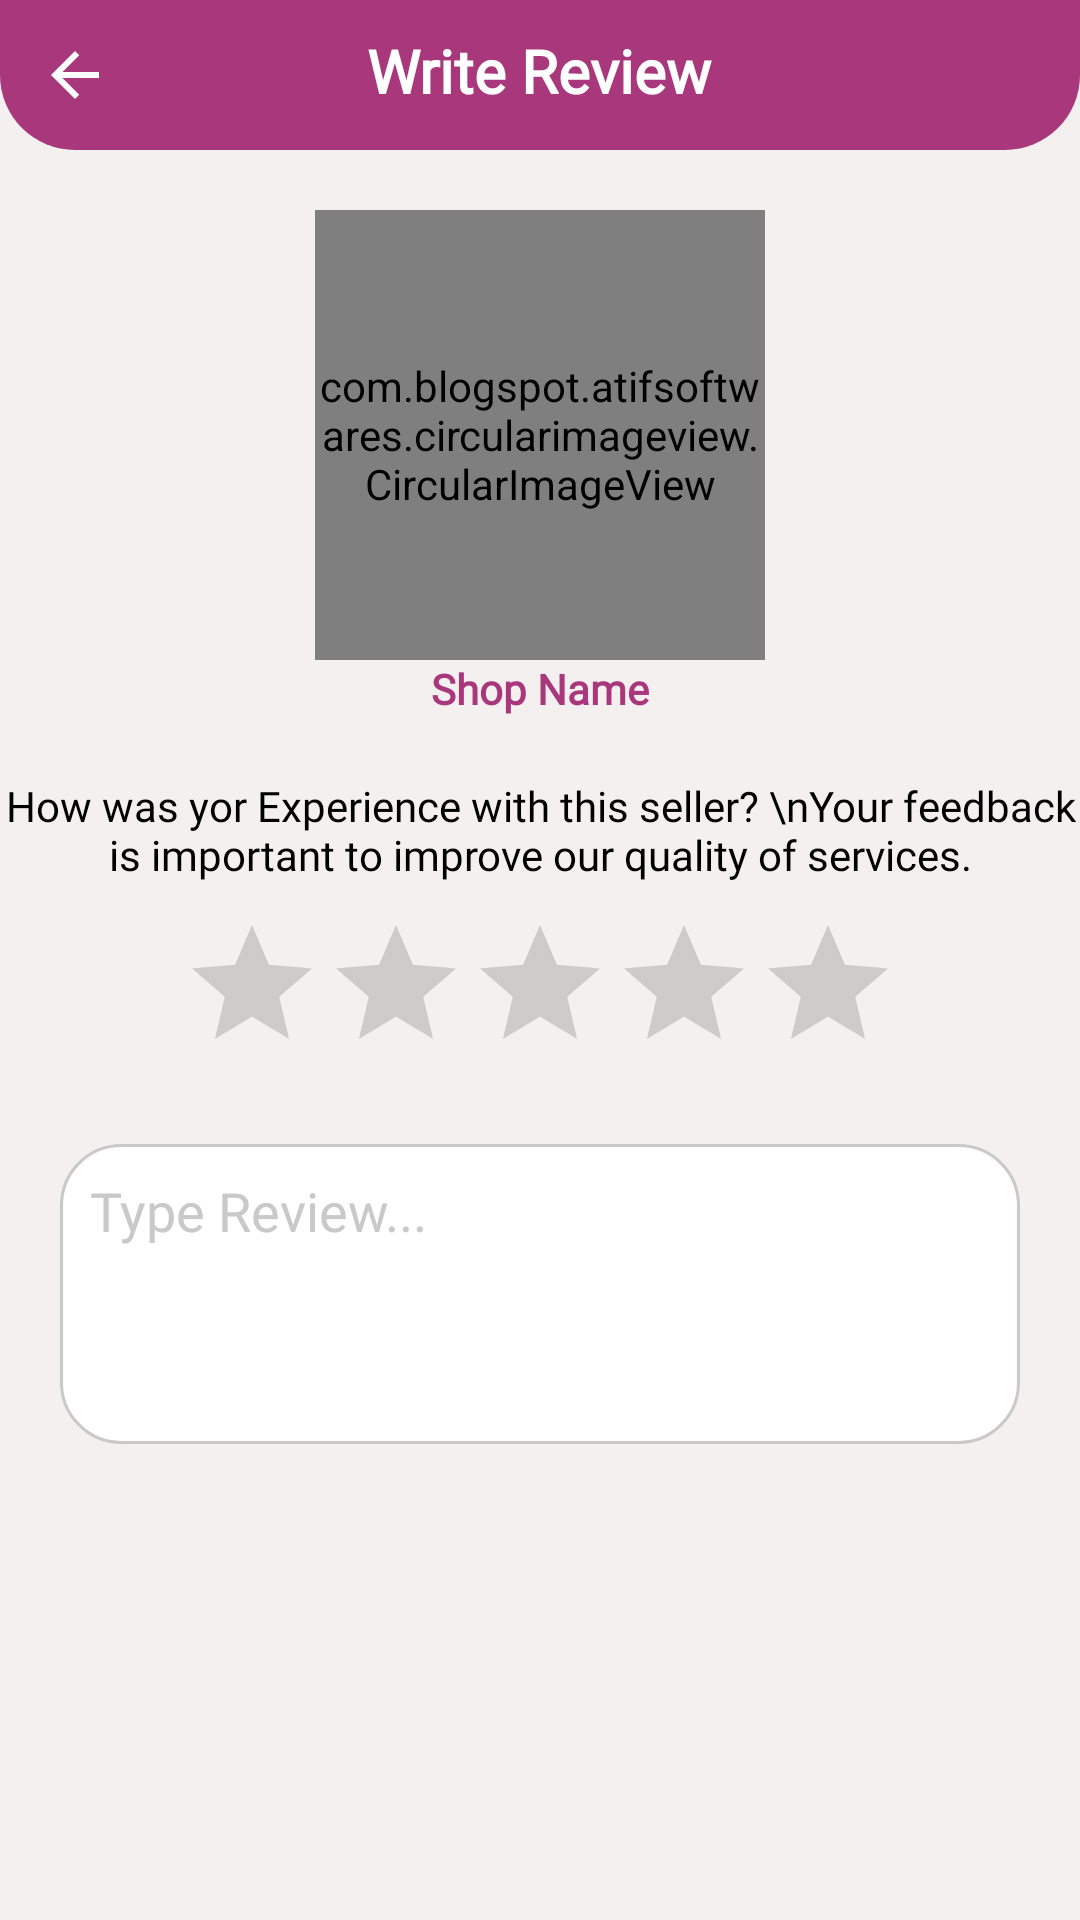

Named icons in this screenshot (1080w x 1920h) and their centers, (x=x, y=y):
back: (x=75, y=75)
